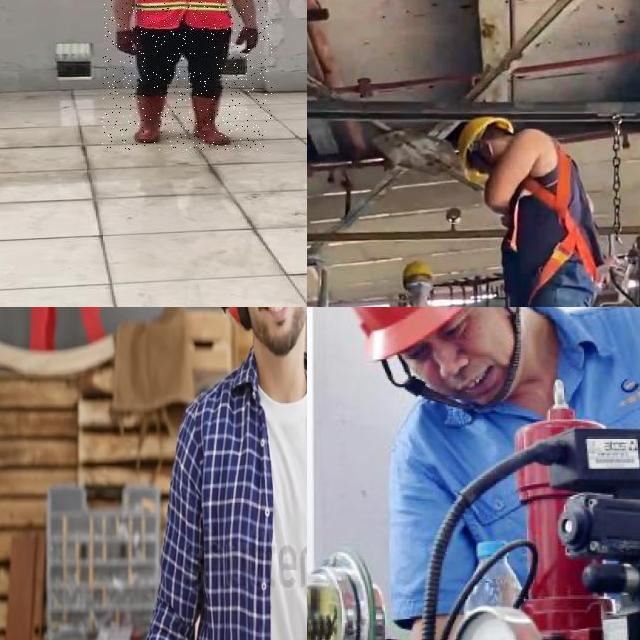Ear-protection: (220, 307, 251, 334)
Harness: (495, 130, 603, 307)
No_Glasses: (402, 307, 484, 369)
boots: (191, 97, 237, 144), (135, 92, 167, 142)
face_nomask: (420, 307, 514, 409)
person: (154, 307, 307, 640), (102, 0, 272, 150)
vest: (133, 0, 231, 28)
